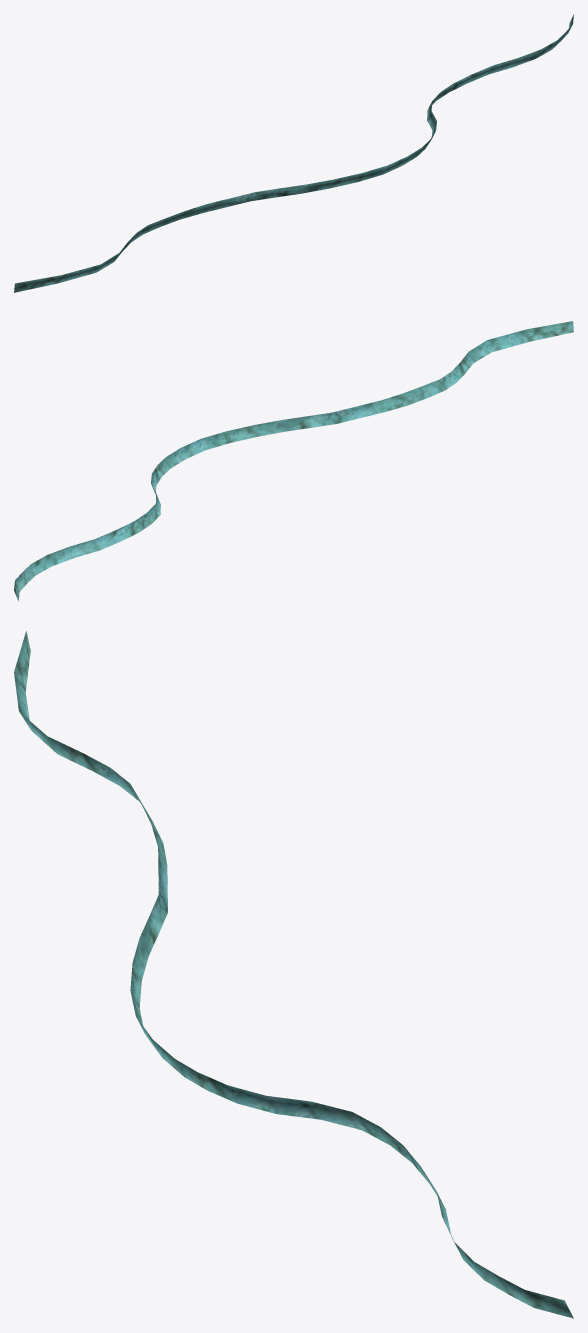
The model's file is EKH_GROTTO_PS_GR_OBJECT13.obj.
3 renders of one model, top to bottom at view 1: azimuth 30°, elevation 25°; view 2: azimuth 210°, elevation 25°; view 3: azimuth 270°, elevation 25°, orthographic. The views are drawn at different scales.
Parts seen in each view (by area): view 1: GR_Object13; view 2: GR_Object13; view 3: GR_Object13.
Part boxes in pixels (bbox=[...]): GR_Object13: bbox=[14, 14, 573, 292]; GR_Object13: bbox=[14, 321, 573, 601]; GR_Object13: bbox=[14, 631, 573, 1318].
Bounding box in the file's own units: 4256 × 60.45 × 1503.
